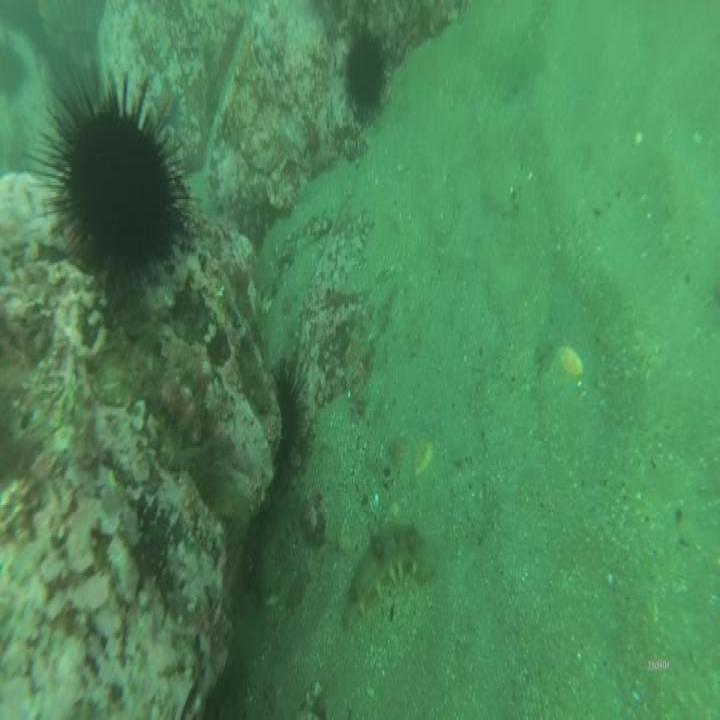echinus: (56, 89, 180, 299), (343, 23, 387, 123), (269, 357, 306, 473)
holothurian: (339, 516, 437, 615)
